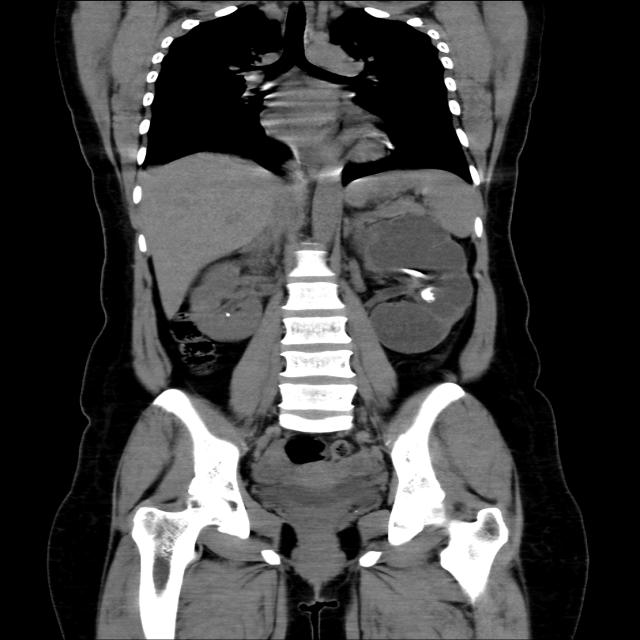kidneystone: (421, 286, 436, 302), (402, 269, 427, 278)
